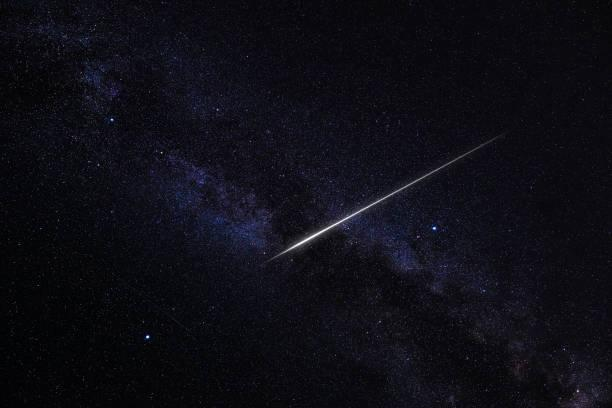meteor: (262, 242, 291, 270)
